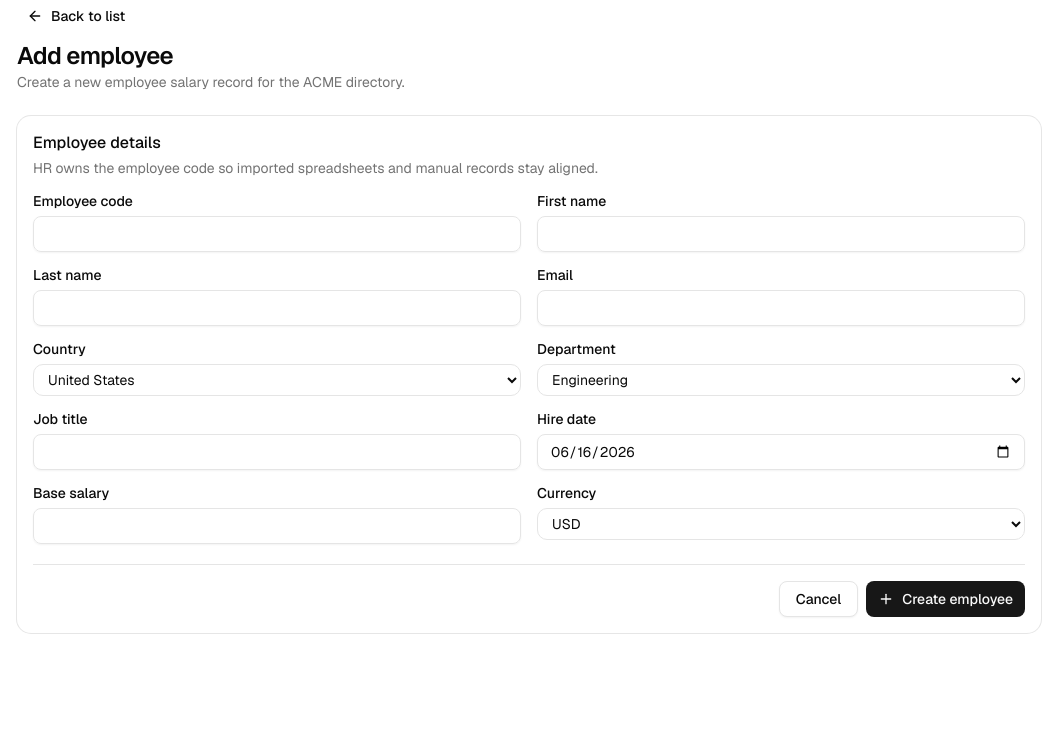
Test: CreateEmployeeClient › distributes 422 validation details to field errors
Type "ACME-99999" into the field labelled "Employee code" at [277, 234], box [33,216,521,252]
Type "Test" into the field labelled "First name" at [781, 234], box [537,216,1025,252]
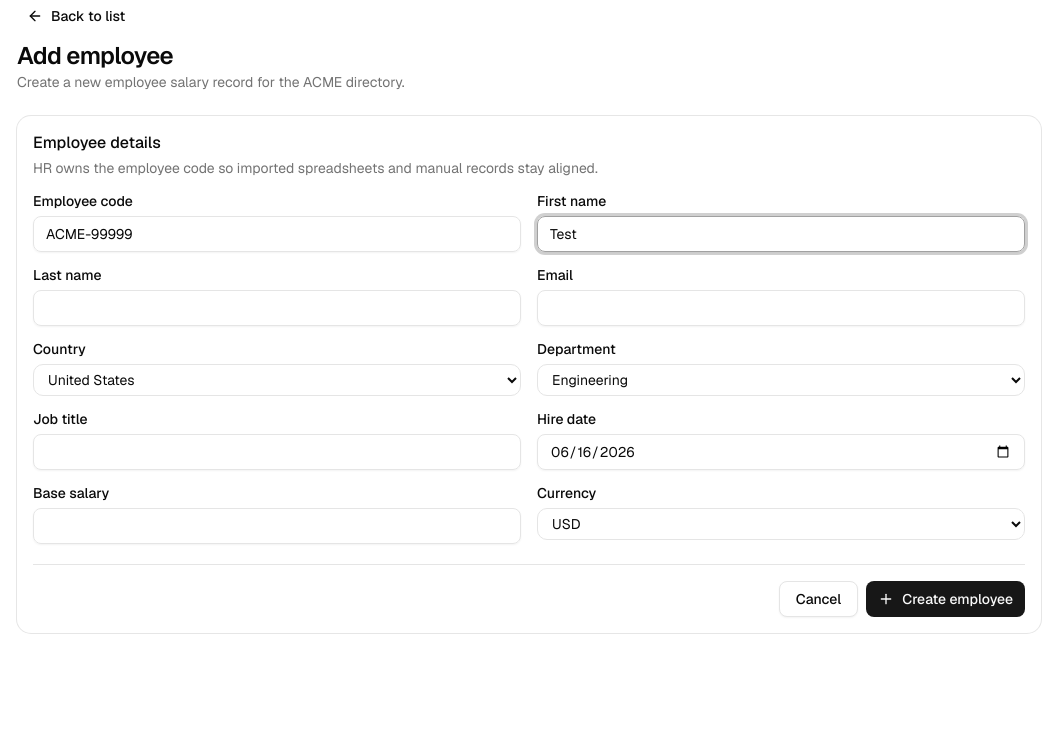
Type "User" into the field labelled "Last name" at [277, 308], box [33,290,521,326]
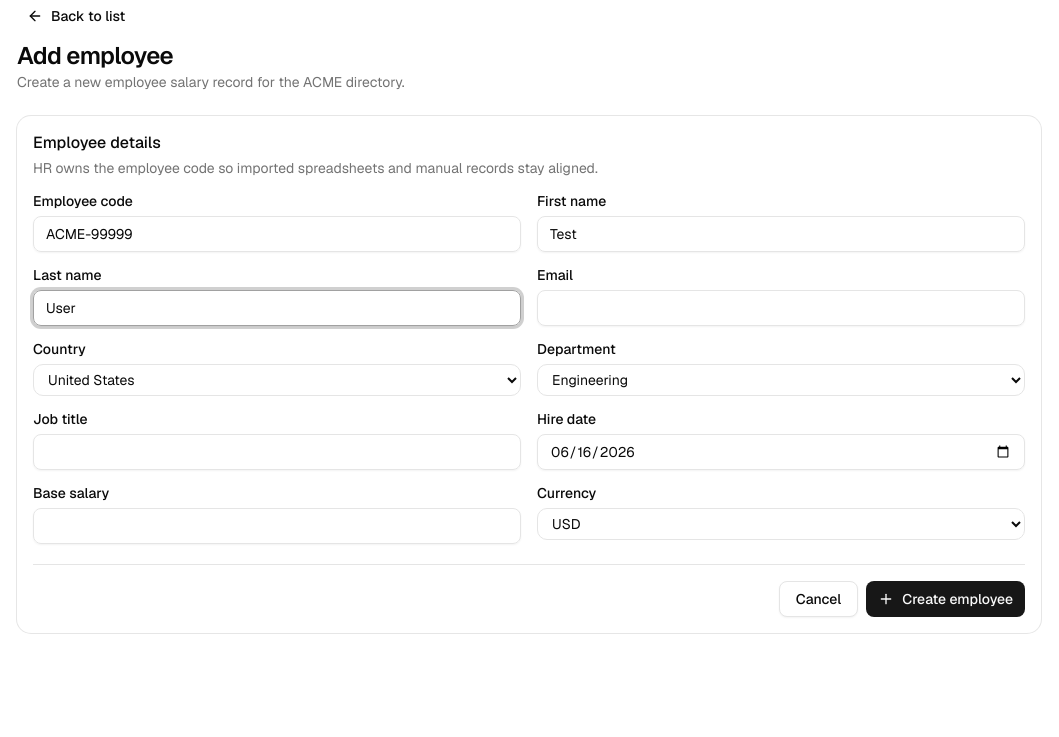
Type "test.user@acme.com" into the field labelled "Email" at [781, 308], box [537,290,1025,326]
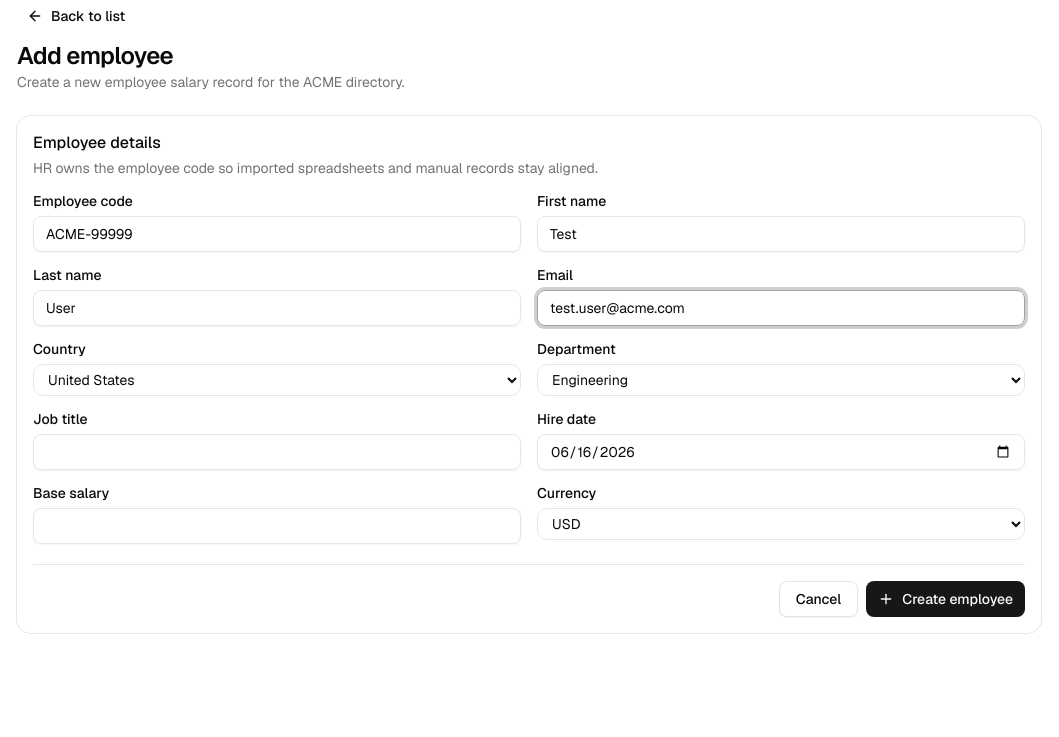
Type "Tester" into the field labelled "Job title" at [277, 452], box [33,434,521,470]
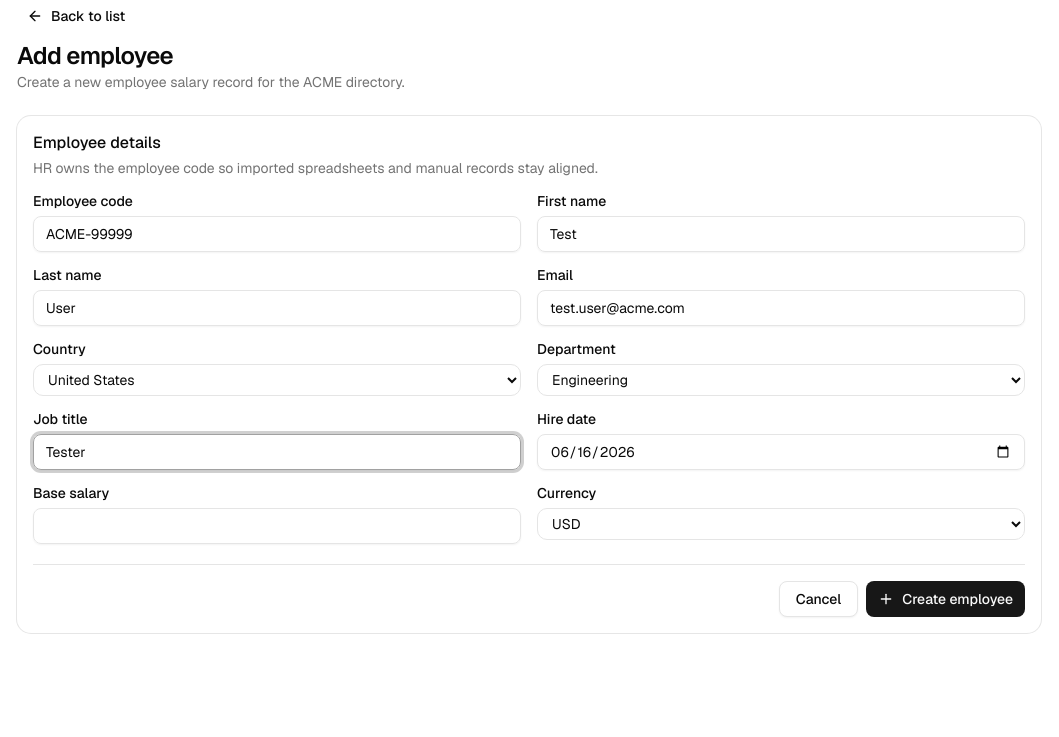
Type "100000" into the field labelled "Base salary" at [277, 526], box [33,508,521,544]
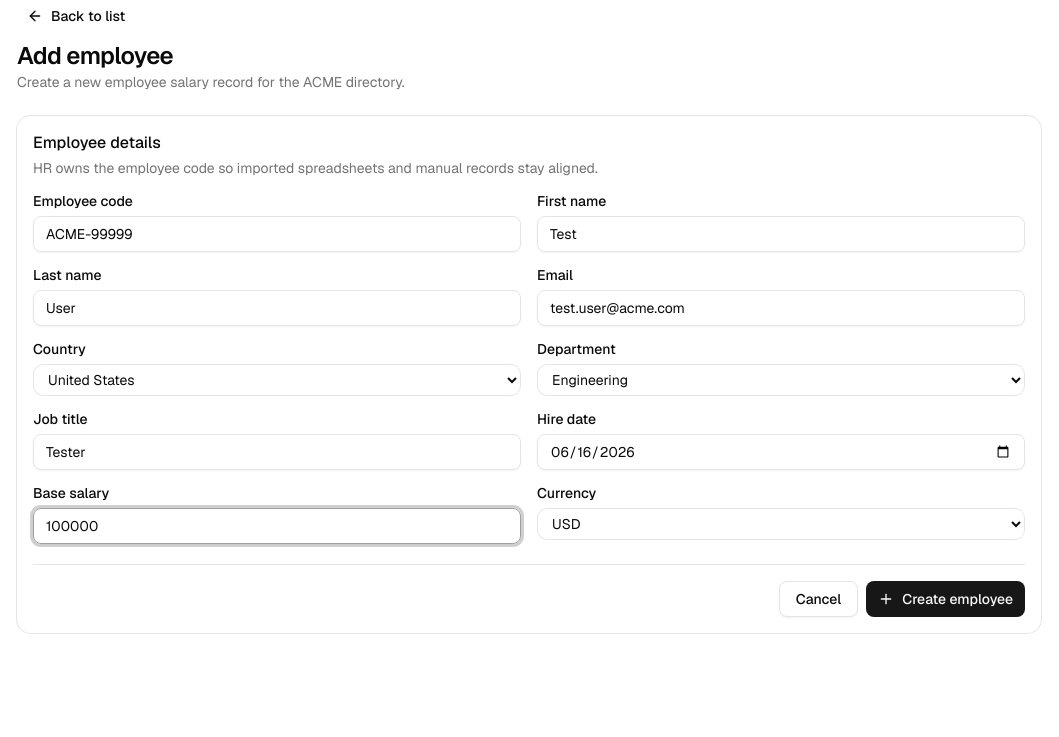
Click the button "Create employee" at [946, 599], box [866,581,1025,617]
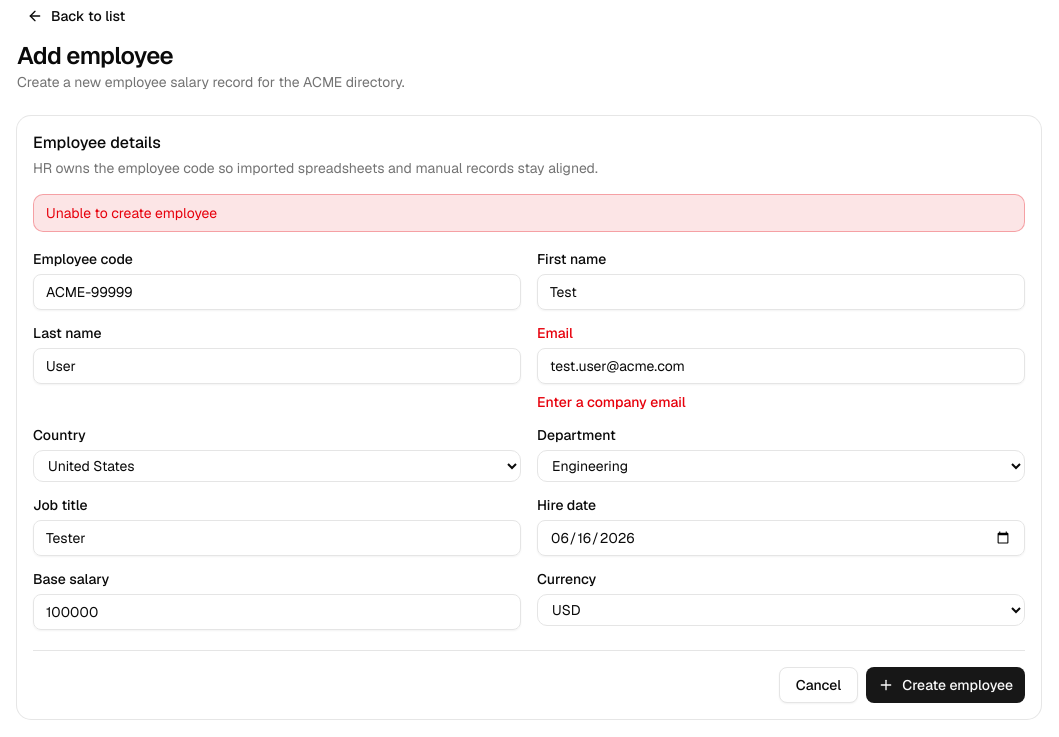
Check: the text "Enter a company email" is shown, box [537,393,686,411]
